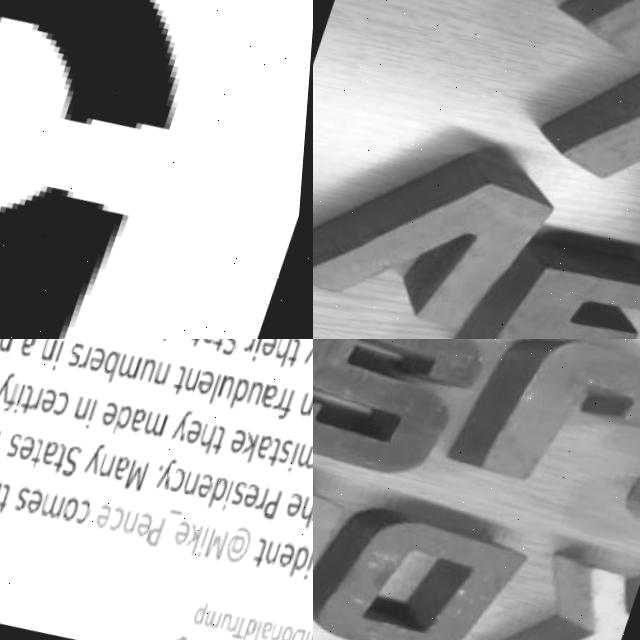5: (0, 0, 234, 339)
A: (132, 405, 156, 438), (44, 437, 67, 470), (259, 435, 281, 468), (116, 455, 138, 485), (20, 339, 43, 363), (265, 386, 284, 415), (266, 621, 283, 640), (203, 339, 225, 349)
B: (102, 350, 126, 387)
C: (55, 388, 78, 420), (173, 468, 195, 498), (114, 507, 134, 535), (81, 499, 100, 528)
D: (313, 475, 548, 640), (115, 402, 141, 441), (212, 477, 237, 514), (233, 379, 257, 415), (295, 548, 313, 585), (250, 619, 268, 640), (296, 631, 313, 640)
E: (177, 520, 202, 552), (21, 433, 46, 465), (103, 399, 128, 431), (282, 543, 305, 575), (246, 483, 269, 515), (289, 494, 313, 524), (200, 370, 223, 400), (200, 475, 224, 503), (90, 346, 114, 374), (188, 420, 210, 450), (42, 387, 64, 417), (31, 488, 52, 518), (141, 512, 162, 542), (100, 503, 121, 533), (232, 430, 254, 458), (263, 339, 285, 360)
F: (7, 378, 26, 414), (284, 390, 303, 426)
H: (200, 424, 224, 460), (274, 339, 298, 373), (302, 499, 313, 534), (0, 481, 7, 513)
I: (88, 399, 104, 432), (17, 382, 33, 414), (293, 444, 307, 477), (56, 340, 70, 373), (228, 483, 242, 515), (205, 529, 218, 559), (255, 339, 269, 366), (0, 377, 4, 410)
J: (441, 339, 640, 524)
K: (188, 523, 212, 559), (242, 433, 266, 469)
L: (212, 376, 226, 408), (260, 623, 271, 640)
M: (210, 528, 239, 565), (130, 459, 158, 496), (146, 410, 176, 443), (119, 351, 149, 383), (46, 491, 74, 523), (211, 610, 232, 633), (300, 446, 313, 476)
N: (187, 470, 210, 502), (156, 360, 178, 390), (77, 395, 98, 425), (186, 369, 208, 397), (270, 543, 291, 571), (103, 453, 124, 481), (42, 339, 64, 364), (127, 512, 147, 539), (303, 394, 313, 421), (277, 625, 292, 640)
O: (67, 496, 86, 525), (288, 628, 303, 640)
P: (151, 515, 175, 551), (268, 489, 292, 525), (201, 604, 216, 629), (0, 339, 23, 355)
R: (260, 488, 277, 515), (34, 385, 50, 412), (277, 389, 292, 414), (82, 345, 97, 370), (245, 339, 264, 358), (237, 618, 248, 635)
S: (313, 339, 487, 499), (64, 444, 90, 482), (9, 430, 29, 462), (18, 486, 38, 515), (281, 440, 301, 469), (223, 339, 247, 361), (237, 482, 255, 511), (71, 342, 88, 368)
T: (256, 539, 278, 574), (33, 437, 55, 472), (270, 438, 290, 474), (174, 366, 194, 400), (1, 481, 20, 515), (56, 443, 75, 477), (289, 341, 308, 375), (23, 383, 42, 416), (215, 427, 234, 459), (238, 616, 258, 640), (214, 339, 233, 357), (191, 339, 212, 351)
U: (249, 381, 271, 409), (221, 376, 242, 404), (143, 356, 163, 385), (227, 615, 243, 636)
V: (313, 114, 588, 339)
W: (0, 426, 11, 455)
X: (512, 531, 640, 640)
Y: (87, 441, 113, 479), (161, 457, 185, 494), (175, 409, 199, 446), (0, 368, 21, 405), (307, 339, 313, 372)
